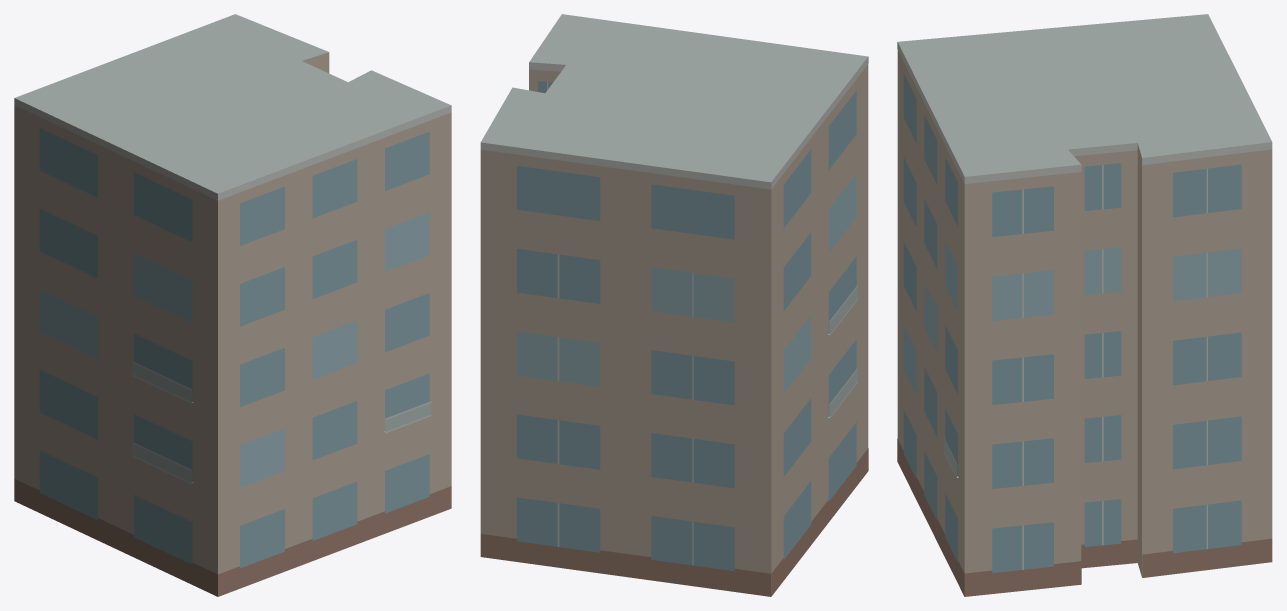
File: survey-upis-32961392.glb
3 views of the same model, side by side, from view 1: azimuth 30°, elevation 25°; view 2: azimuth 150°, elevation 25°; view 3: azimuth 270°, elevation 25° (orthographic). The views are drawn at different scales.
Parts seen in each view (by area): view 1: survey-upis-32961392.tmp; view 2: survey-upis-32961392.tmp; view 3: survey-upis-32961392.tmp.
Boxes of the visible parts, x1,y1,x2,y2 form: survey-upis-32961392.tmp: (14,14,451,596); survey-upis-32961392.tmp: (480,14,868,596); survey-upis-32961392.tmp: (897,14,1272,596).
Bounding box in the file's own units: 11.74 × 14.1 × 11.42.
